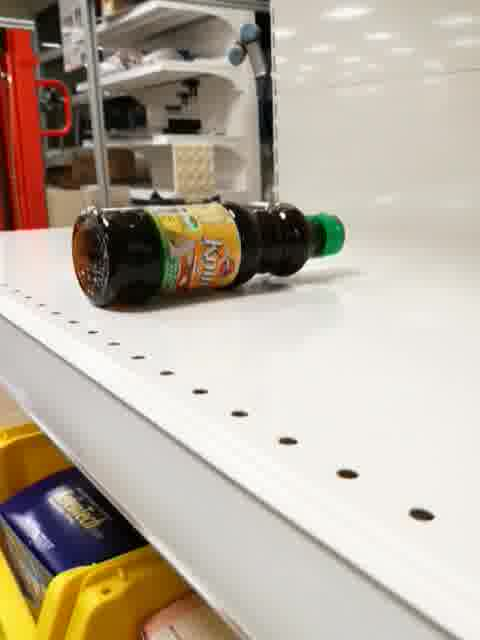cookingoil: (70, 198, 353, 314)
